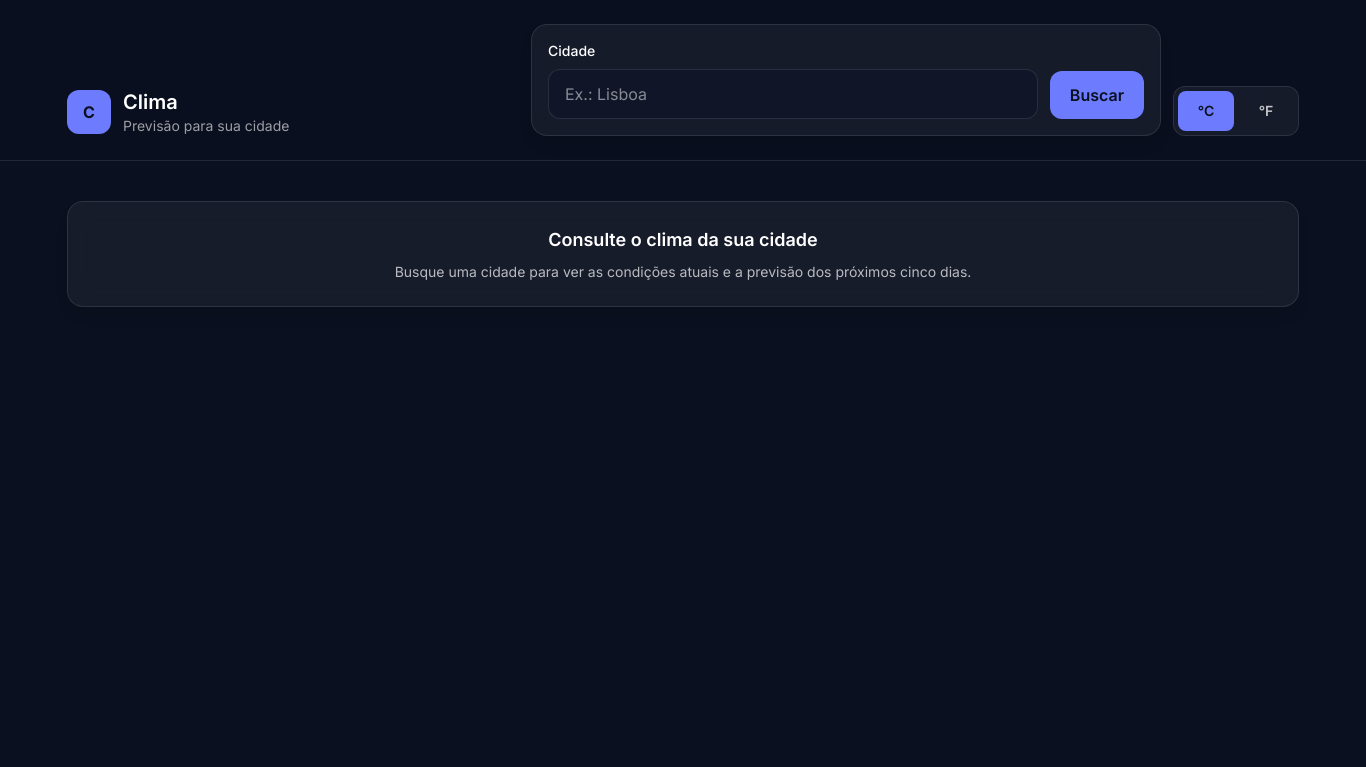
Test: App › passes retry from ErrorState to the hook
Type "Lisboa" into the search field labelled "Cidade" at (793, 94), box [548,69,1038,119]
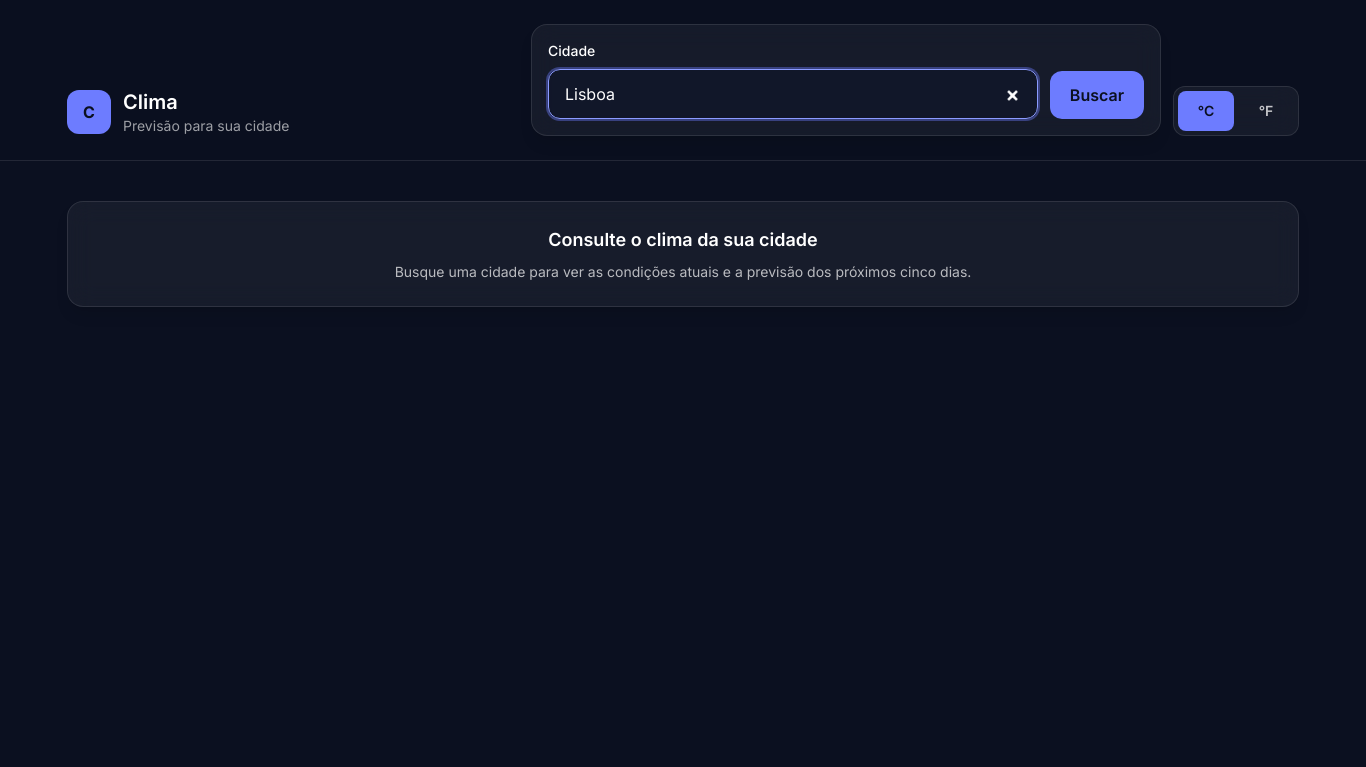
Click the button "Buscar" at (1097, 95), box [1050,71,1144,119]
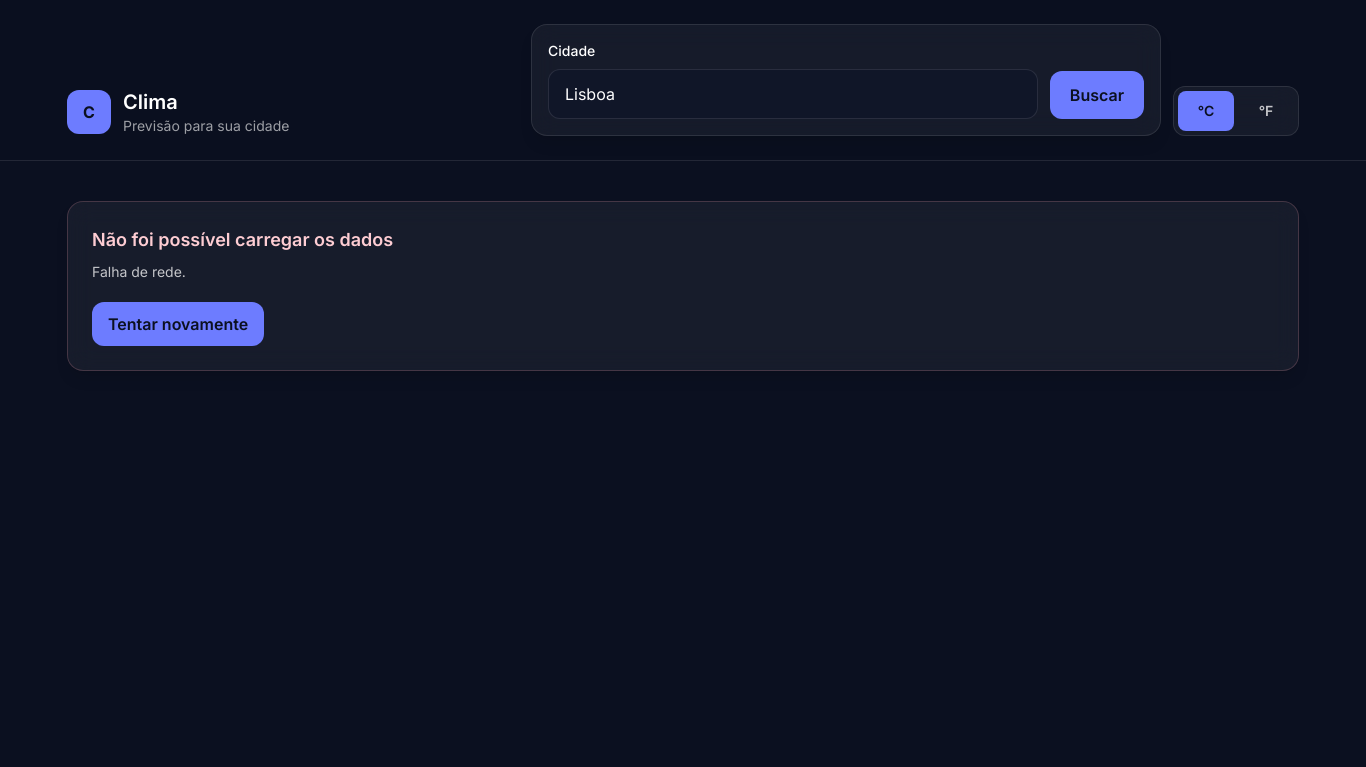
Now the message shows "Falha de rede.", box [92,263,186,280]
Click the button "Tentar novamente" at (178, 324), box [92,302,264,346]
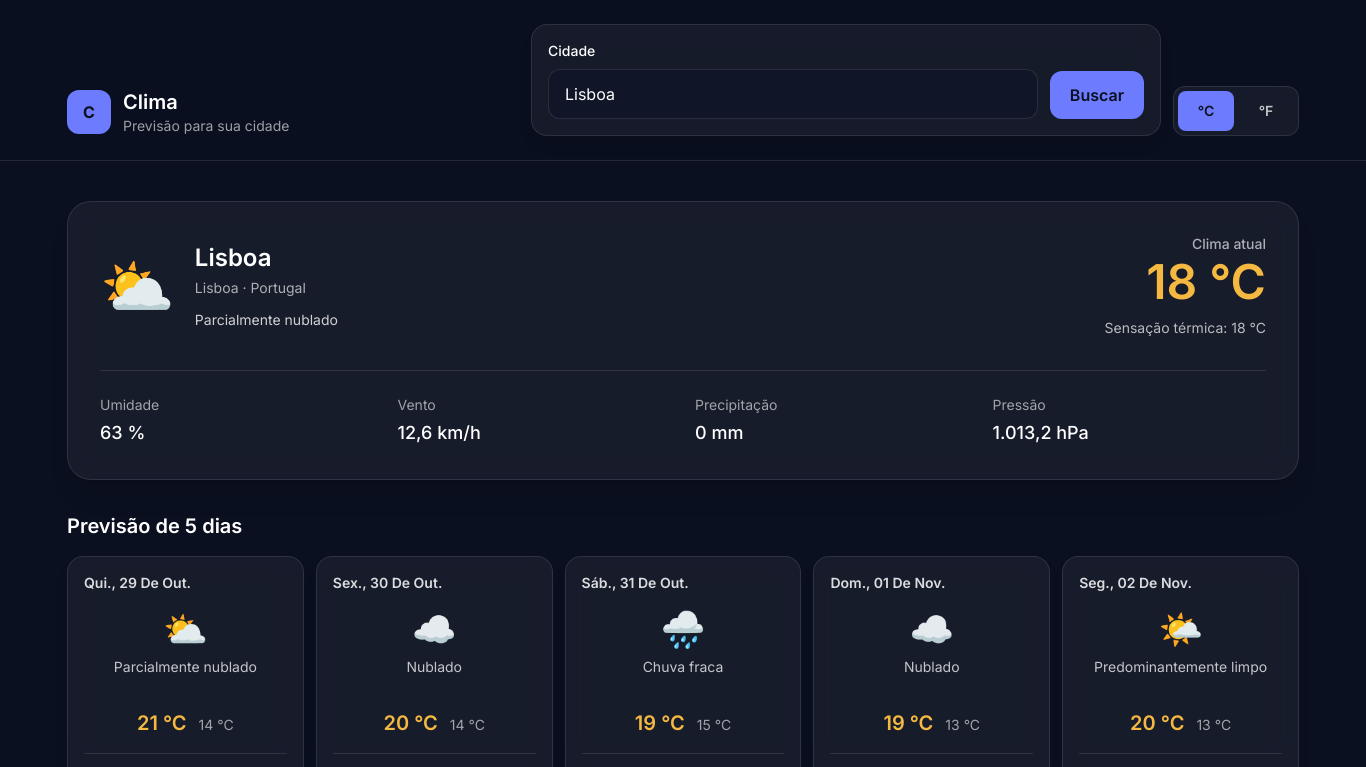
Now the heading "Lisboa" is shown, box [195,243,272,272]
